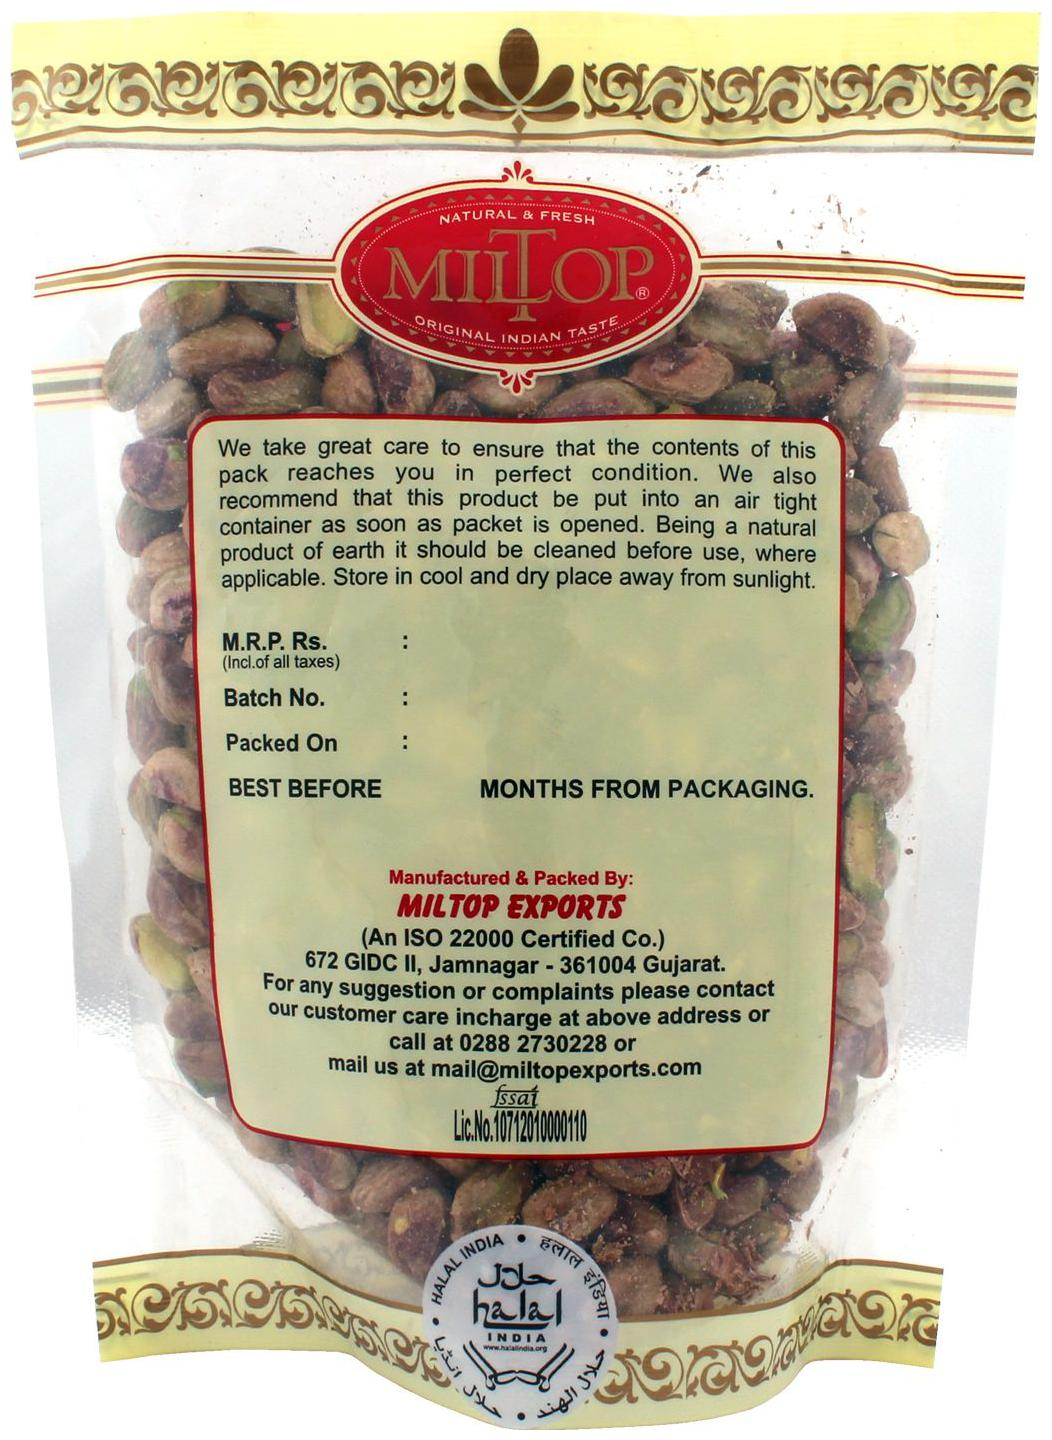fssai: (489, 1083, 542, 1109)
